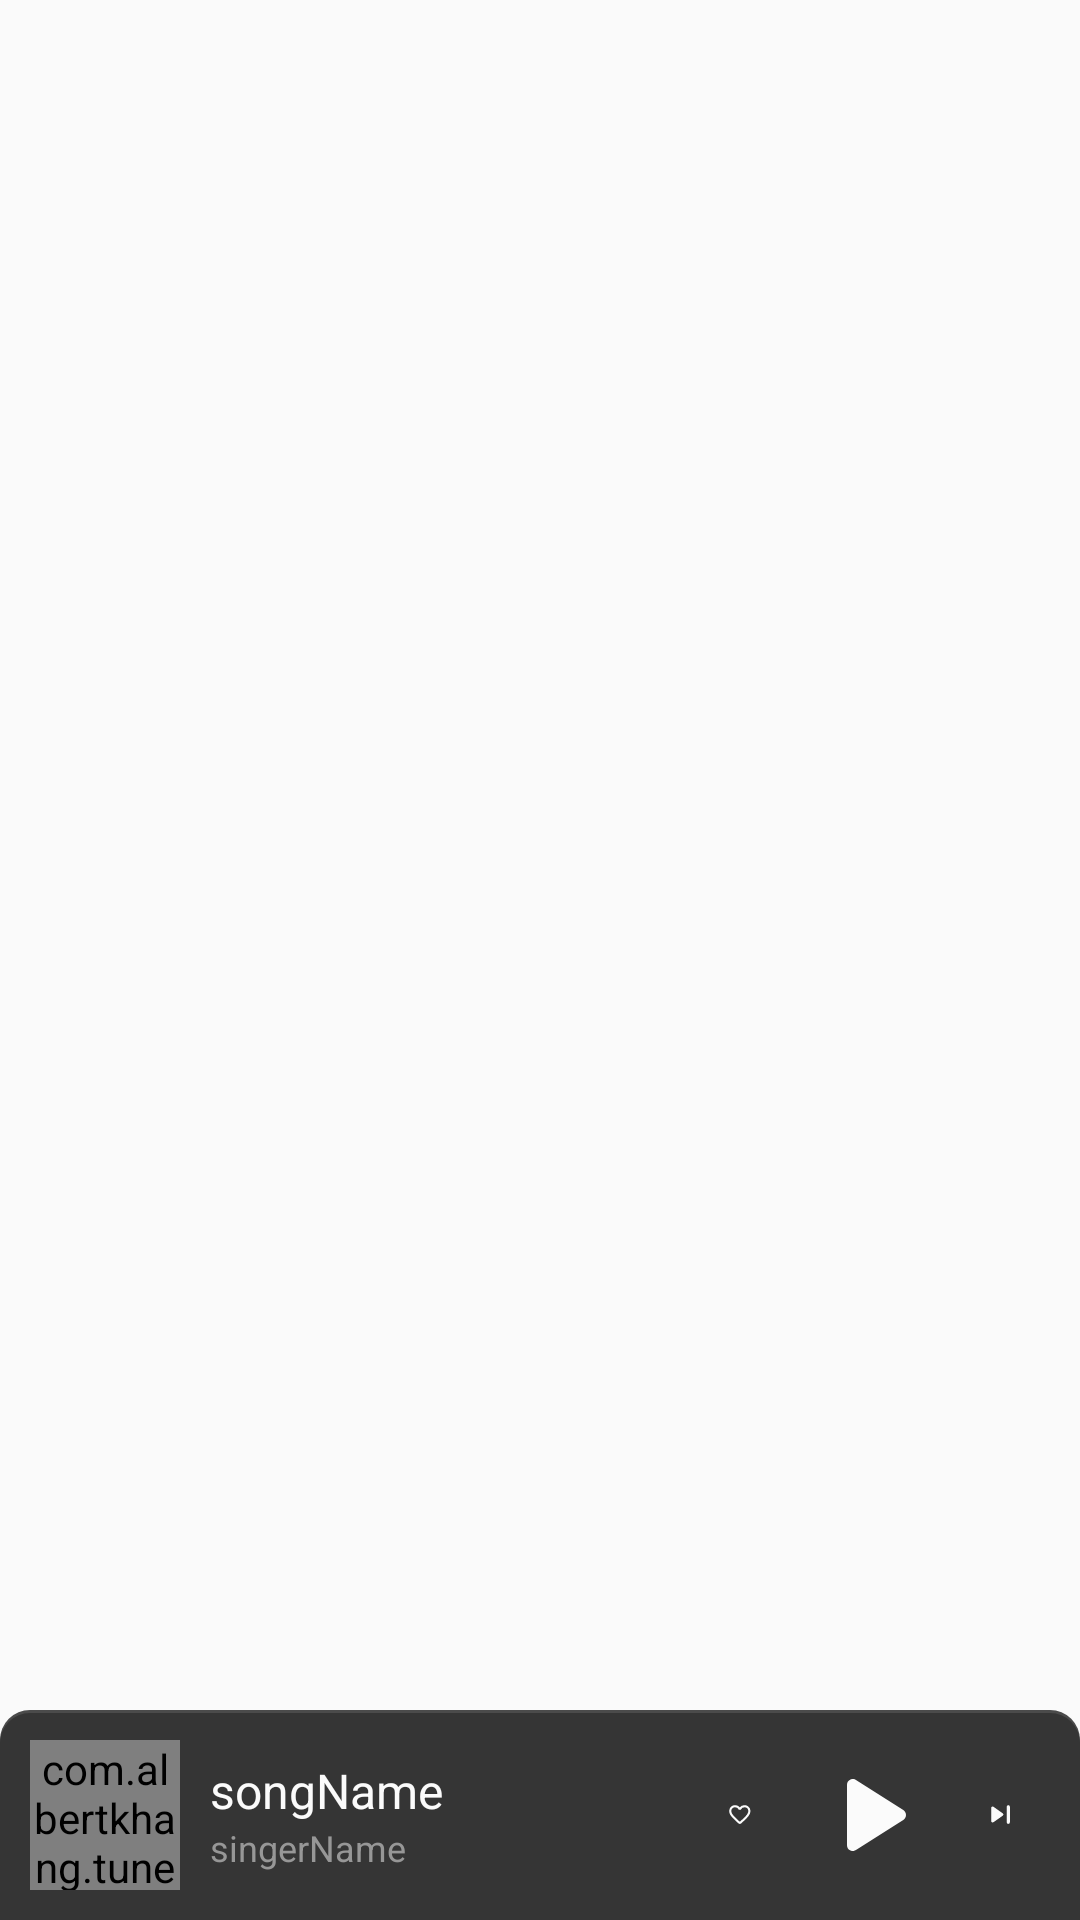

Icons on this 1080px x 1920px Android screen, each with its box as (x1, y1, x2, y2):
play: (847, 1779, 906, 1851)
